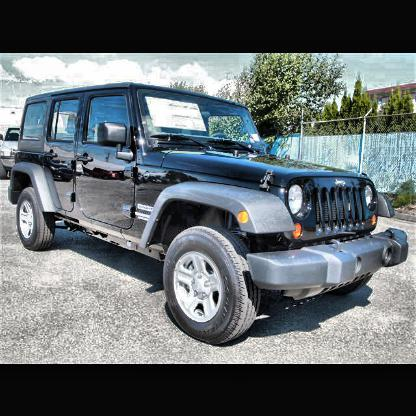Jeep Wrangler SUV 2012: (7, 80, 411, 349)
